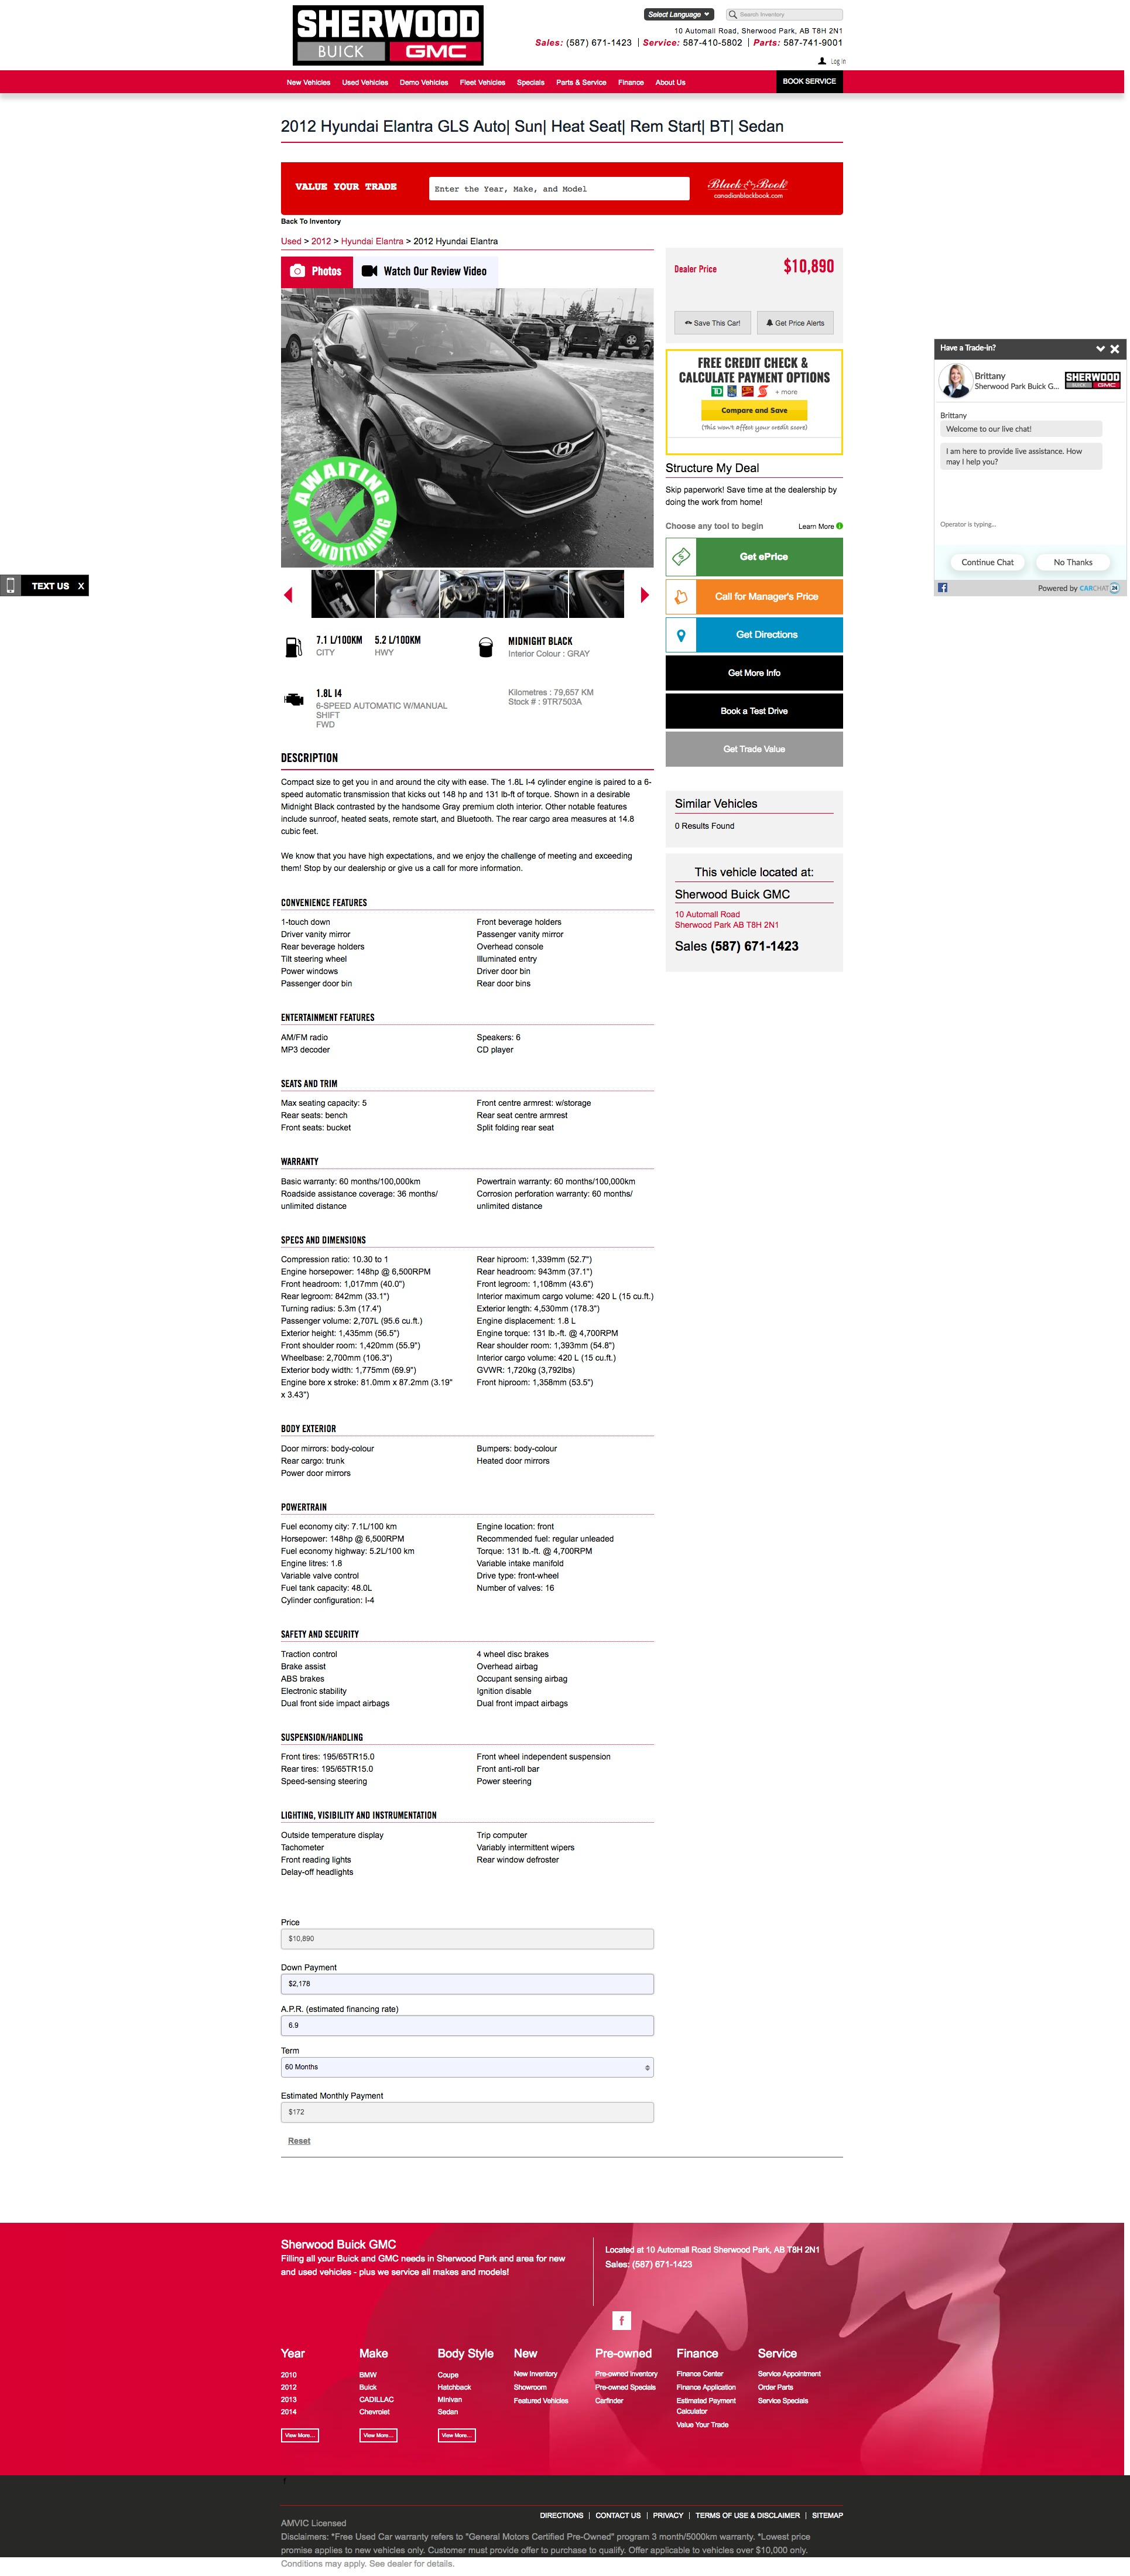car: (641, 586, 650, 605)
